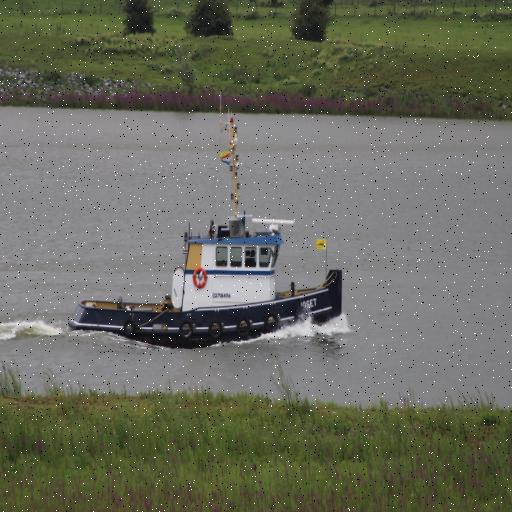tugboat: (66, 206, 347, 359)
